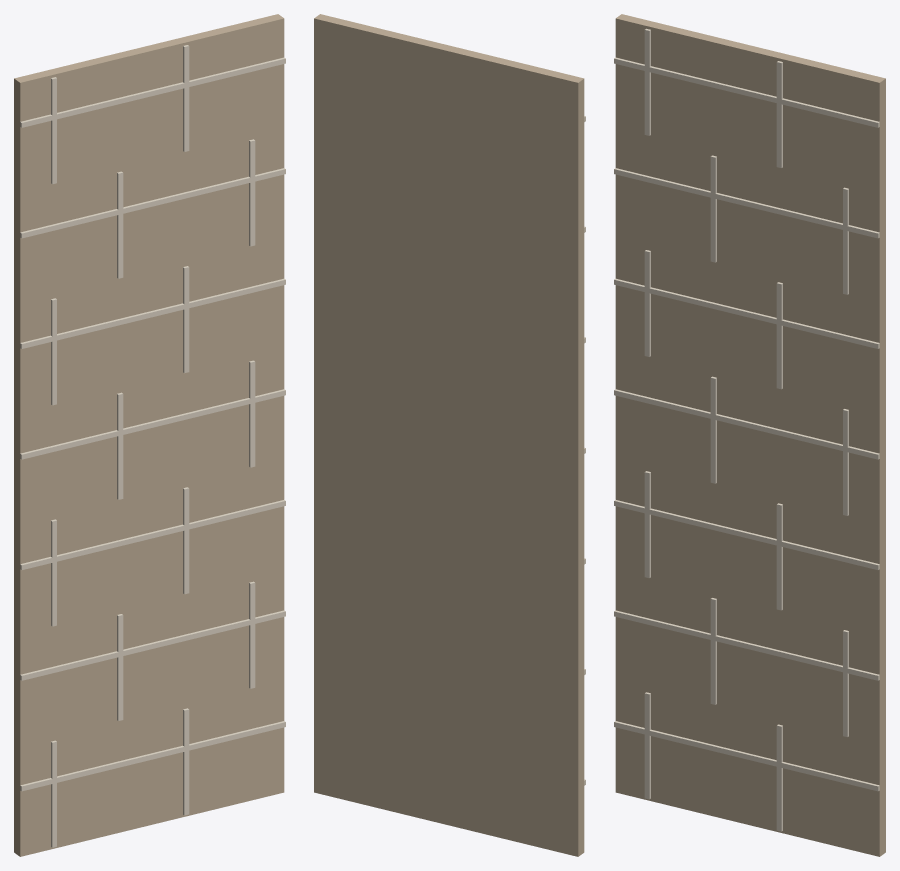
3 views of the same model, side by side, from view 1: azimuth 30°, elevation 25°; view 2: azimuth 150°, elevation 25°; view 3: azimuth 330°, elevation 25° (orthographic).
Parts seen in each view (by area): view 1: wall-base, course-6, course-4, course-0, course-2, course-1, course-5, course-3, joint-3--0.25, joint-1--0.25, joint-3-0.25, joint-5-0.25 (+10 smaller); view 2: wall-base; view 3: wall-base, course-5, course-6, course-2, course-0, course-3, course-4, course-1, joint-4--0.25, joint-5--0.25, joint-0--0.25, joint-6--0.25 (+10 smaller).
Boxes of the visible parts, box(x1,y1,x2,y2) form: wall-base: box(14, 14, 284, 856); course-6: box(20, 57, 285, 127); course-4: box(20, 278, 285, 348); course-0: box(20, 721, 285, 791); course-2: box(20, 500, 285, 569); course-1: box(20, 610, 285, 680); course-5: box(20, 168, 285, 238); course-3: box(20, 389, 285, 459); joint-3--0.25: box(117, 392, 123, 499); joint-1--0.25: box(117, 614, 123, 720); joint-3-0.25: box(249, 360, 255, 467); joint-5-0.25: box(249, 139, 255, 246); wall-base: box(314, 14, 584, 856); wall-base: box(615, 14, 885, 856); course-5: box(614, 168, 879, 238); course-6: box(614, 57, 879, 127); course-2: box(614, 500, 879, 569); course-0: box(614, 721, 879, 791); course-3: box(614, 389, 879, 459); course-4: box(614, 278, 879, 348); course-1: box(614, 610, 879, 680); joint-4--0.25: box(644, 250, 650, 356); joint-5--0.25: box(710, 155, 716, 262); joint-0--0.25: box(644, 692, 650, 799); joint-6--0.25: box(644, 28, 650, 135).
Size of the model in its own units: 1 by 2.8 by 0.05.
